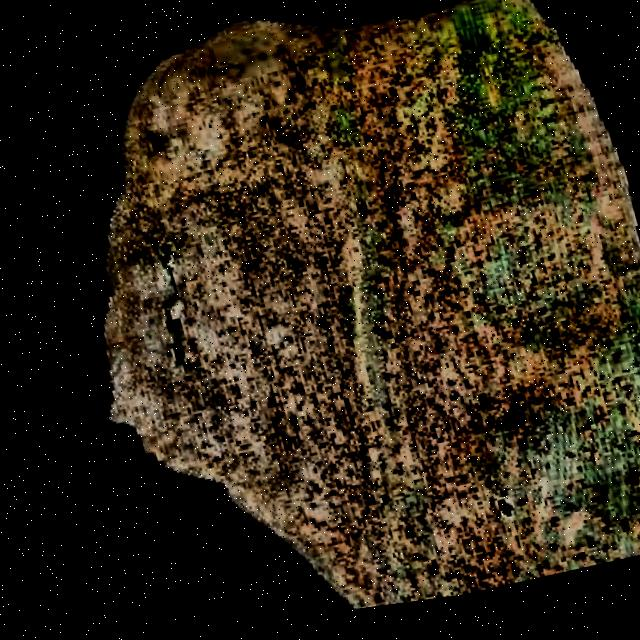common_rust: (34, 0, 640, 636)
